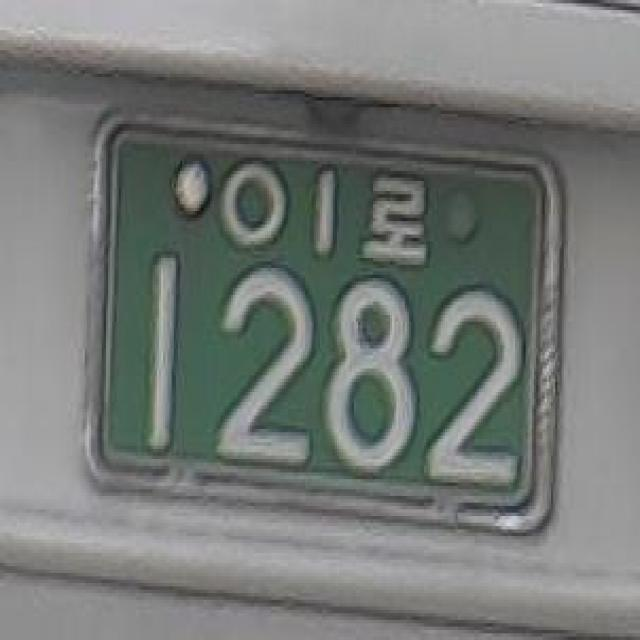illegal_plate: (74, 102, 580, 556)
